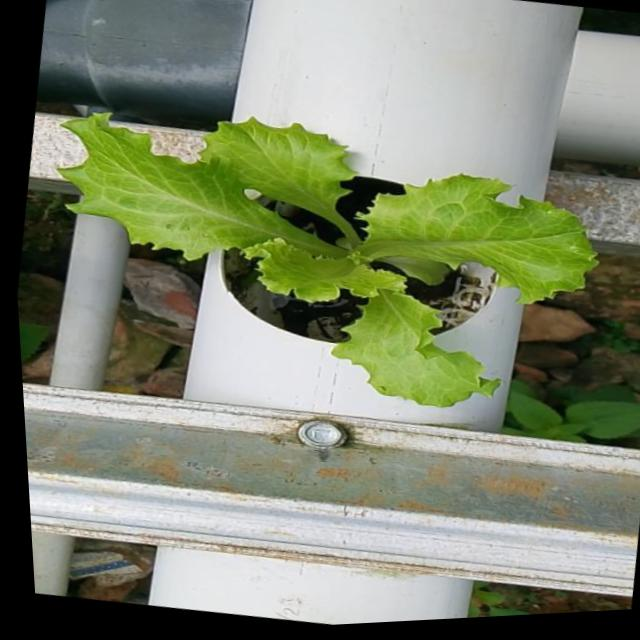Baby: (64, 120, 603, 413)
